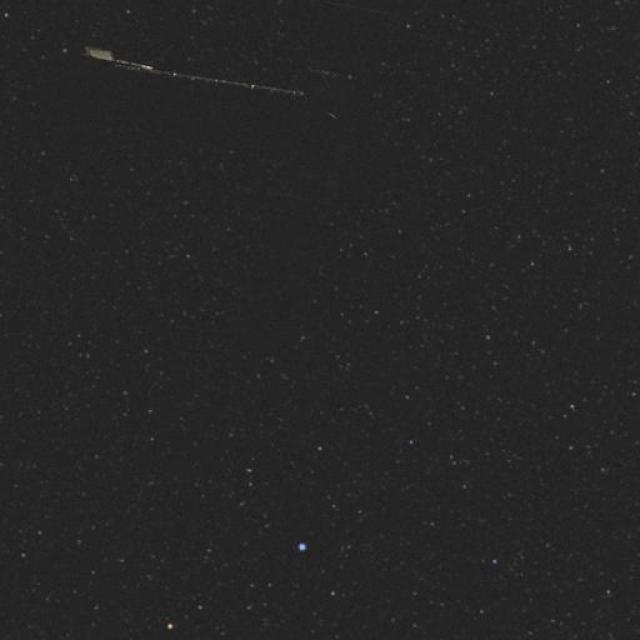xmm_newton: (63, 32, 366, 197)
